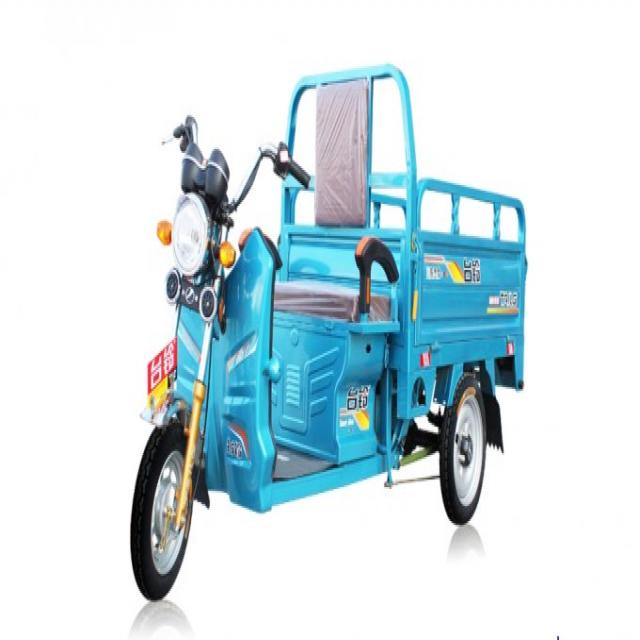tricycle: (126, 62, 528, 600)
